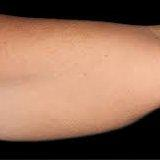Goosebumps: (0, 15, 159, 140)
